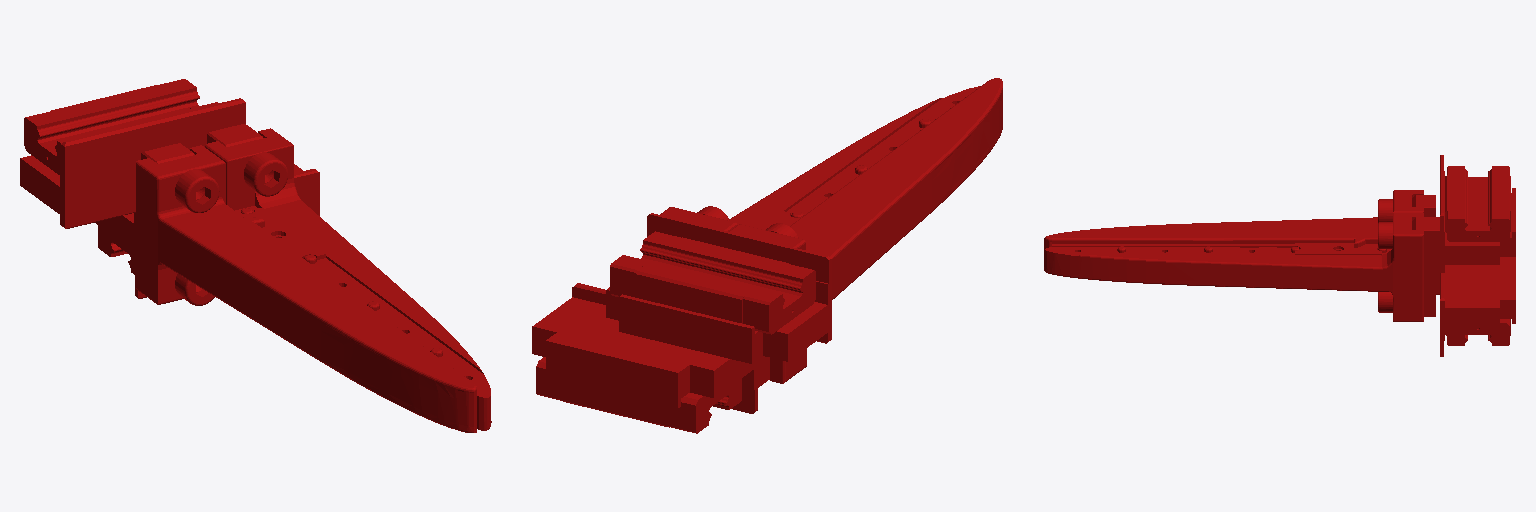
robot.urdf — gripper_urdf:
<?xml version="1.0" encoding="utf-8"?>
<!-- This URDF was automatically created by SolidWorks to URDF Exporter! Originally created by [author] ([email redacted]) 
     Commit Version: 1.5.1-0-g916b5db  Build Version: 1.5.7152.31018
     For more information, please see http://wiki.ros.org/sw_urdf_exporter -->
<robot
  name="gripper_urdf">

  <link
    name="base_link">
    <inertial>
      <origin
        xyz="0.00021624 -0.040234 -0.0069938"
        rpy="0 0 0" />
      <mass
        value="0.28445" />
      <inertia
        ixx="0.00029735"
        ixy="-2.8536E-06"
        ixz="-5.3116E-09"
        iyy="0.00015844"
        iyz="-1.2155E-05"
        izz="0.00036539" />
    </inertial>
    <visual>
      <origin
        xyz="0 0 0"
        rpy="0 0 0" />
      <geometry>
        <mesh
          filename="package://gripper_urdf/meshes/base_link.STL" />
      </geometry>
      <material
        name="">
        <color
          rgba="1 0.42353 0.3098 1" />
      </material>
    </visual>
    <collision>
      <origin
        xyz="0 0 0"
        rpy="0 0 0" />
      <geometry>
        <mesh
          filename="package://gripper_urdf/meshes/base_link.STL" />
      </geometry>
    </collision>
  </link>
  <link
    name="gripper_1">
    <inertial>
      <origin
        xyz="0.0014935 -0.12244 -0.016352"
        rpy="0 0 0" />
      <mass
        value="0.020256" />
      <inertia
        ixx="6.4964E-06"
        ixy="-6.3521E-08"
        ixz="1.0077E-07"
        iyy="1.3519E-06"
        iyz="-1.3159E-07"
        izz="7.1948E-06" />
    </inertial>
    <visual>
      <origin
        xyz="0 0 0"
        rpy="0 0 0" />
      <geometry>
        <mesh
          filename="package://gripper_urdf/meshes/gripper_1.STL" />
      </geometry>
      <material
        name="">
        <color
          rgba="0.69412 0.098039 0.098039 1" />
      </material>
    </visual>
    <collision>
      <origin
        xyz="0 0 0"
        rpy="0 0 0" />
      <geometry>
        <mesh
          filename="package://gripper_urdf/meshes/gripper_1.STL" />
      </geometry>
    </collision>
  </link>
  <joint
    name="g_joint_1"
    type="prismatic">
    <origin
      xyz="0 0 0"
      rpy="0 0 0" />
    <parent
      link="base_link" />
    <child
      link="gripper_1" />

    <limit
      lower="0"
      upper="0.03"
      effort="100"
      velocity="3" />
  </joint>
  <link
    name="gripper_2">
    <inertial>
      <origin
        xyz="-0.0018182 -0.12413 -0.02152"
        rpy="0 0 0" />
      <mass
        value="0.021464" />
      <inertia
        ixx="7.4096E-06"
        ixy="7.4468E-08"
        ixz="1.0288E-07"
        iyy="1.3868E-06"
        iyz="1.1201E-07"
        izz="8.0959E-06" />
    </inertial>
    <visual>
      <origin
        xyz="0 0 0"
        rpy="0 0 0" />
      <geometry>
        <mesh
          filename="package://gripper_urdf/meshes/gripper_2.STL" />
      </geometry>
      <material
        name="">
        <color
          rgba="0.69412 0.098039 0.098039 1" />
      </material>
    </visual>
    <collision>
      <origin
        xyz="0 0 0"
        rpy="0 0 0" />
      <geometry>
        <mesh
          filename="package://gripper_urdf/meshes/gripper_2.STL" />
      </geometry>
    </collision>
  </link>
  <joint
    name="g_joint2"
    type="prismatic">
    <origin
      xyz="0 0 0"
      rpy="0 0 0" />
    <parent
      link="base_link" />
    <child
      link="gripper_2" />

    <limit
      lower="-0.03"
      upper="0"
      effort="100"
      velocity="3" />
  </joint>

  
</robot>

--- Render facts (derived) ---
Views: 3 orthographic renders of the robot side by side, from view 1: azimuth 30°, elevation 25°; view 2: azimuth 150°, elevation 25°; view 3: azimuth 270°, elevation 25°.
Robot: gripper_urdf — 3 links, 2 joints (2 prismatic); root link base_link; default pose: all joints at 0.
Links seen in each view (by area): view 1: gripper_2, gripper_1; view 2: gripper_2, gripper_1; view 3: gripper_1, gripper_2.
Boxes of the visible links, box(x1,y1,x2,y2) form: gripper_2: box(95, 143, 476, 432); gripper_1: box(20, 79, 491, 430); gripper_2: box(532, 78, 1002, 433); gripper_1: box(606, 86, 979, 363); gripper_1: box(1044, 155, 1515, 321); gripper_2: box(1044, 190, 1515, 356).
Size in the robot's own frame: 0.052 by 0.1215 by 0.034 metres.
Meshes: 3 distinct files referenced, 2 mesh visuals loaded (2 binary STL); not drawn: 1 (reference not matched to a file when rendering).